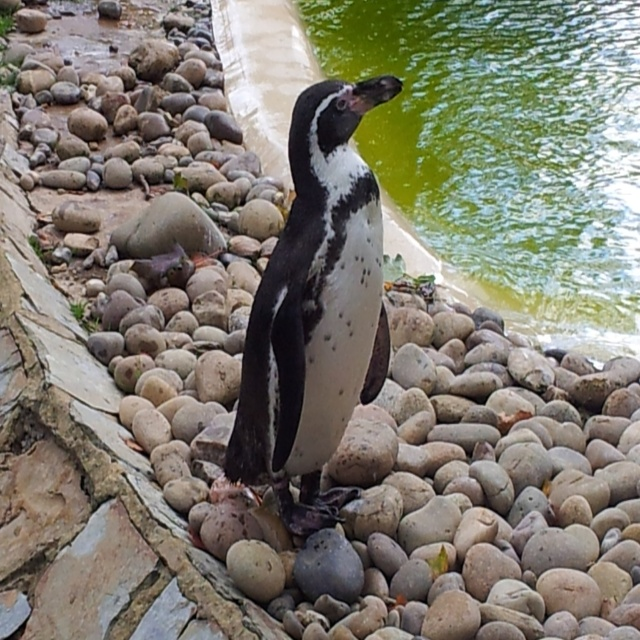Penguin: (223, 75, 403, 536)
